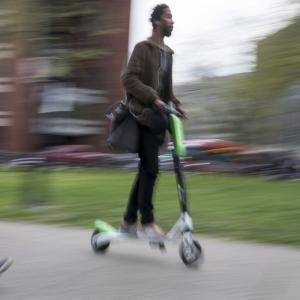with scooter: (90, 4, 202, 267)
